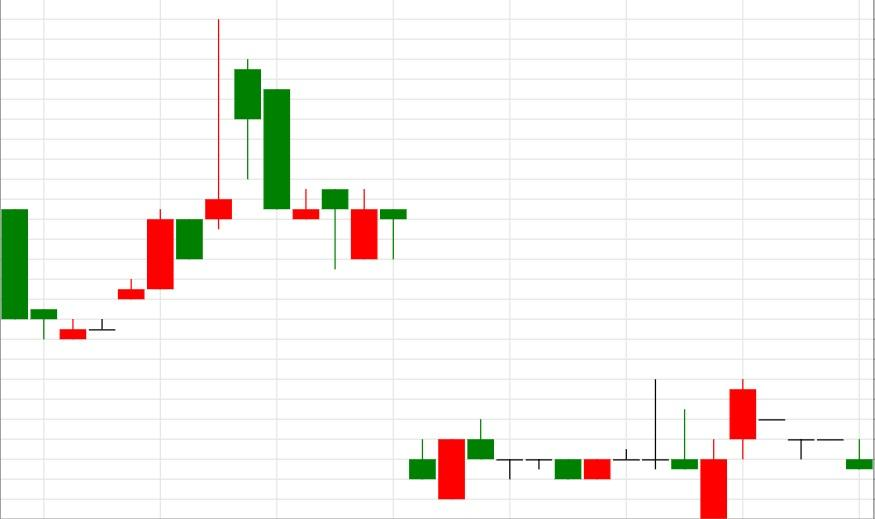bullish_engulfing_rise: (234, 59, 466, 501)
